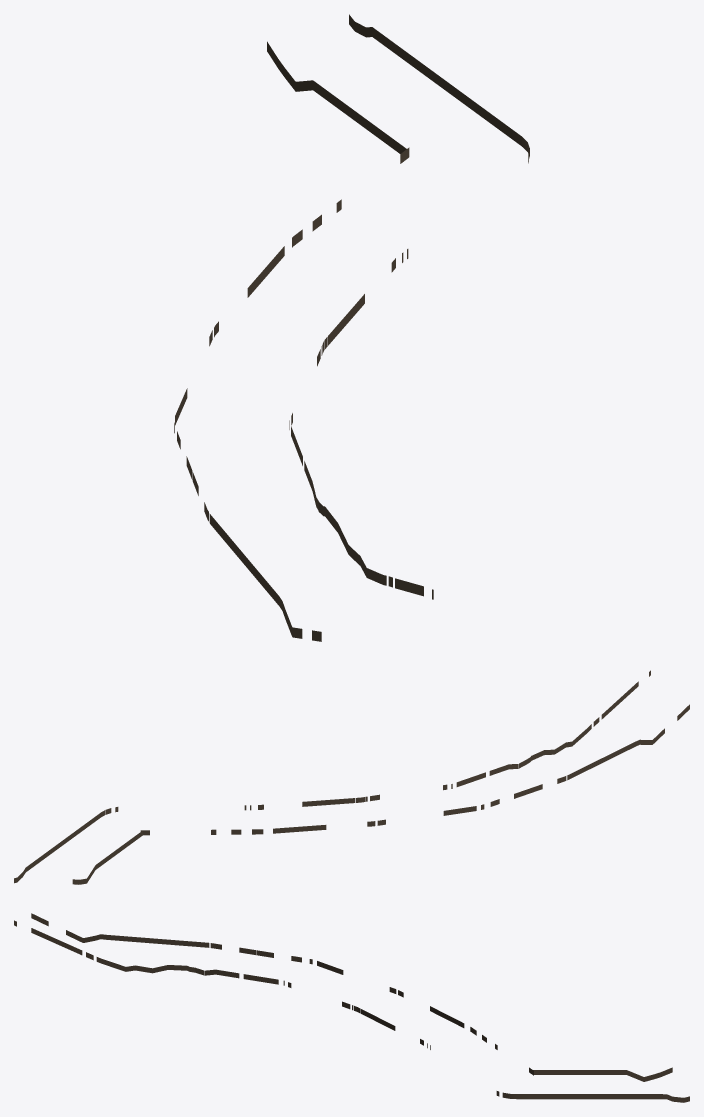
The picture shows the model from 3 angles, top to bottom: view 1: azimuth 30°, elevation 25°; view 2: azimuth 150°, elevation 25°; view 3: azimuth 270°, elevation 25°; orthographic projection. The views are drawn at different scales.
Parts seen in each view (by area): view 1: prototype; view 2: prototype; view 3: prototype.
Boxes of the visible parts, x1,y1,x2,y2 form: prototype: [174, 14, 529, 641]; prototype: [14, 670, 689, 884]; prototype: [14, 913, 689, 1102].
Bounding box in the file's own units: 22.84 × 2.65 × 39.
